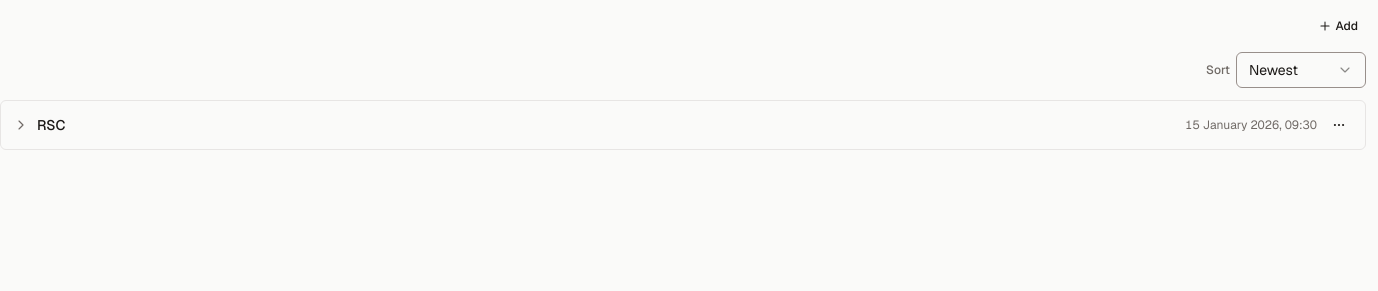
it: the "row" position -- read-only values on the collapsed row › is read-only -- expanding the row exposes no control bound to it
The width and height of the screenshot is (1378, 291).
Step 1. Click the text "RSC" → point(51, 125), box [37, 115, 66, 135]
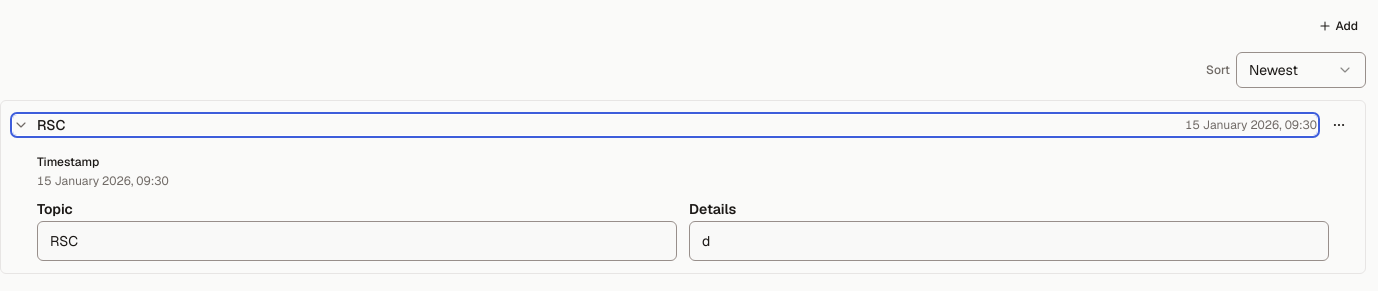
Check: the field showing "d" below "Details" is shown, box [689, 221, 1329, 261]
